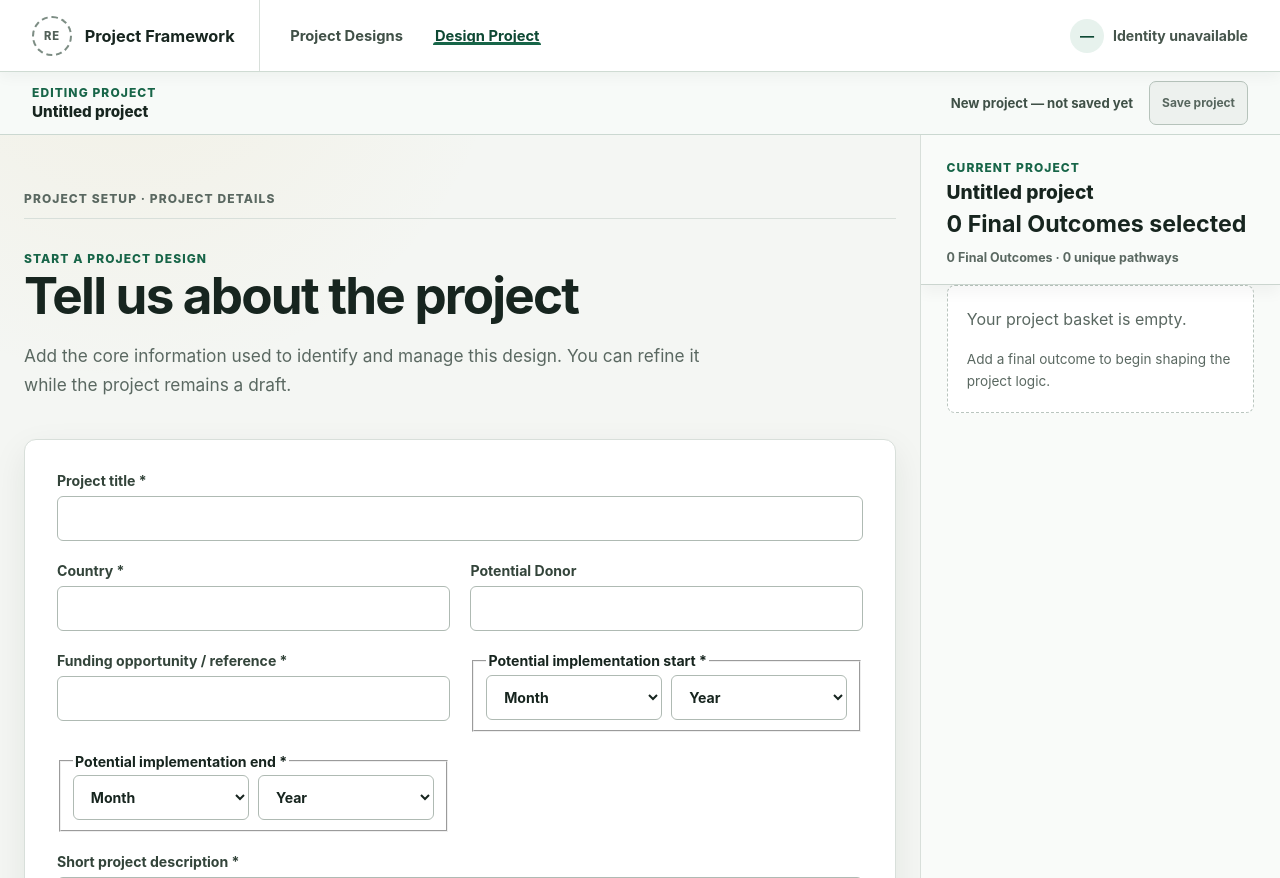
Test: project persistence workflow › marks the design saved and offers metadata-only retry after a partial save
Type "Authoritative saved project" into the field labelled "Project title *" at [460, 519], box [57,496,863,542]
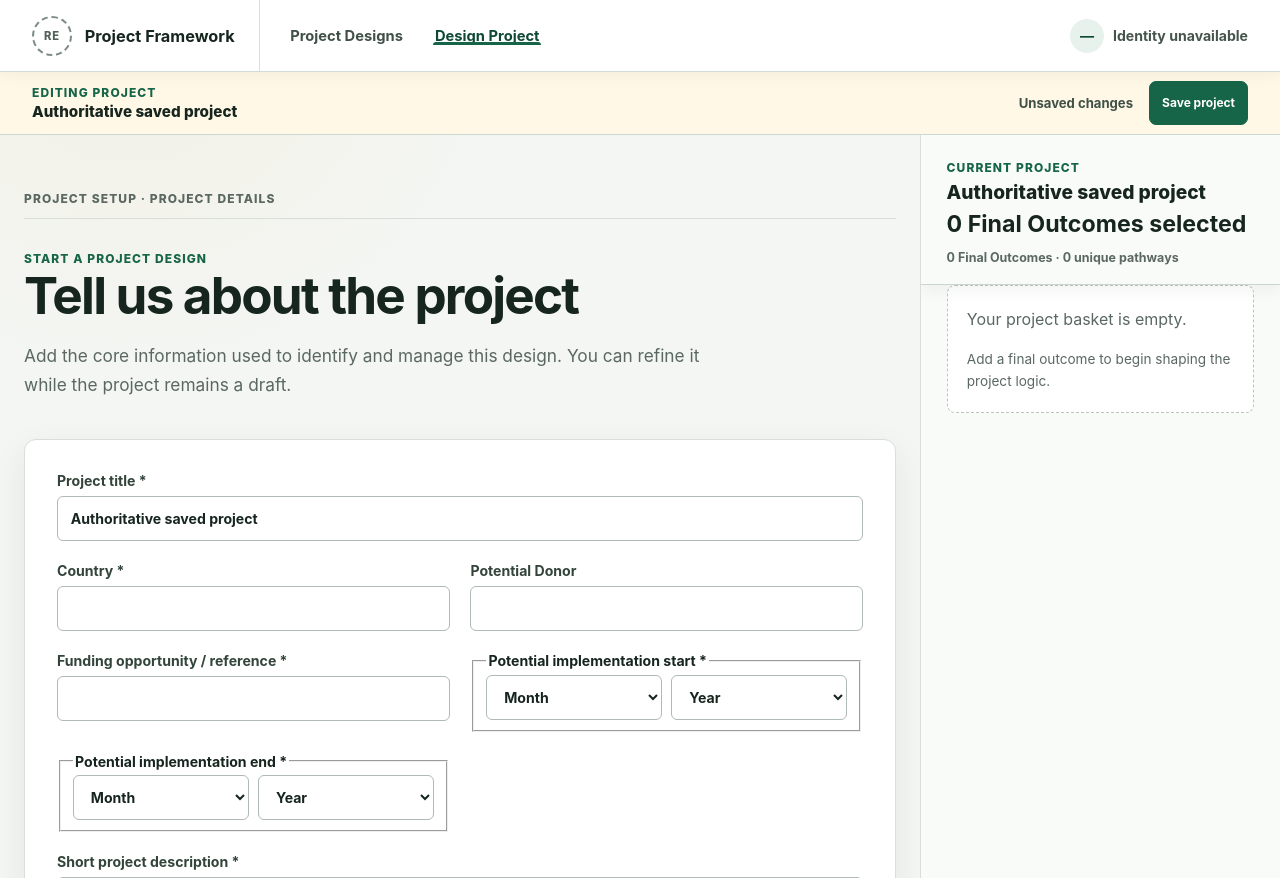
Click the button "Save project" at [1198, 103], box [1149,81,1248,125]
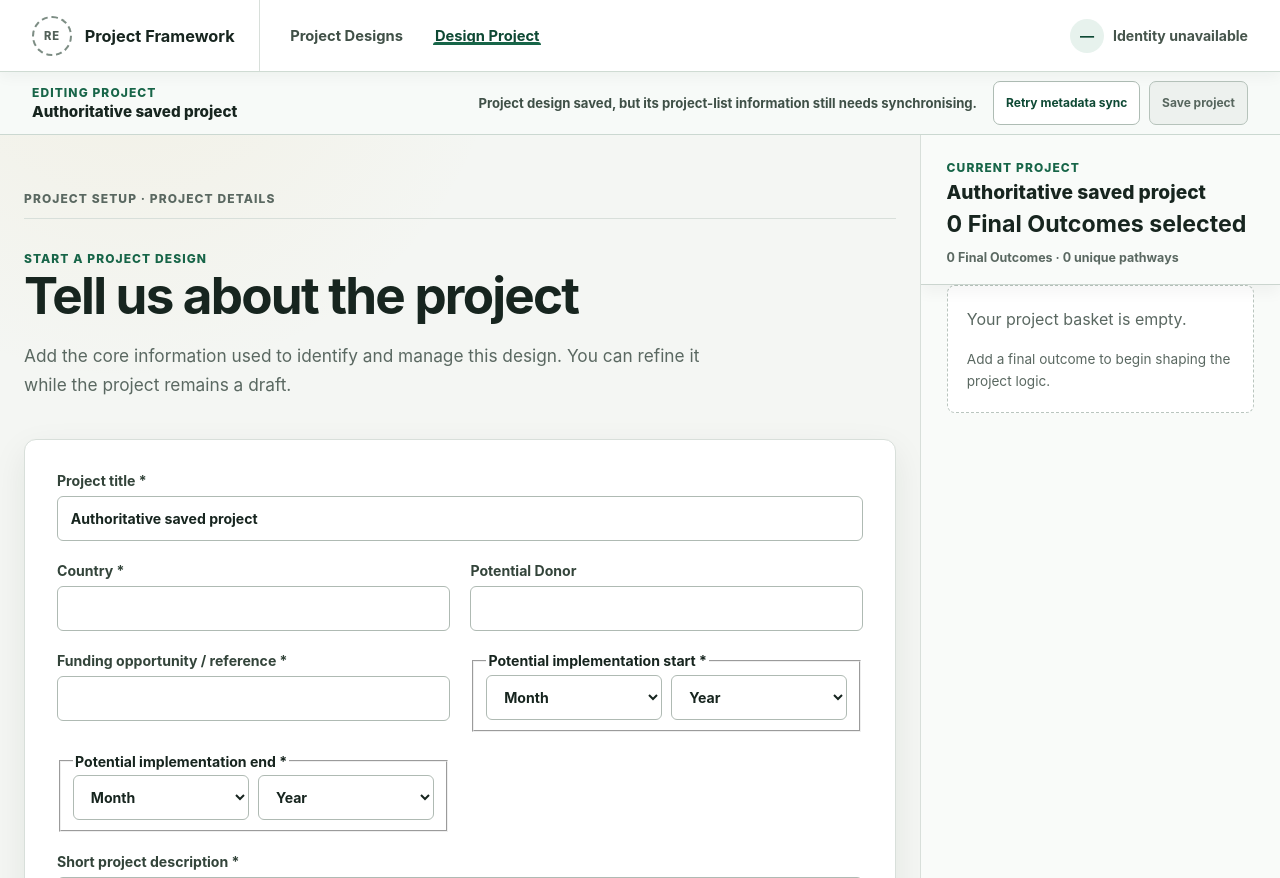
Check: the text "Project design saved, but its project-list information still needs synchronising." is shown, box [478,95,977,111]
Check: the button "Save project" is disabled, box [1149,81,1248,125]
Click the button "Retry metadata sync" at [1067, 103], box [993,81,1140,125]
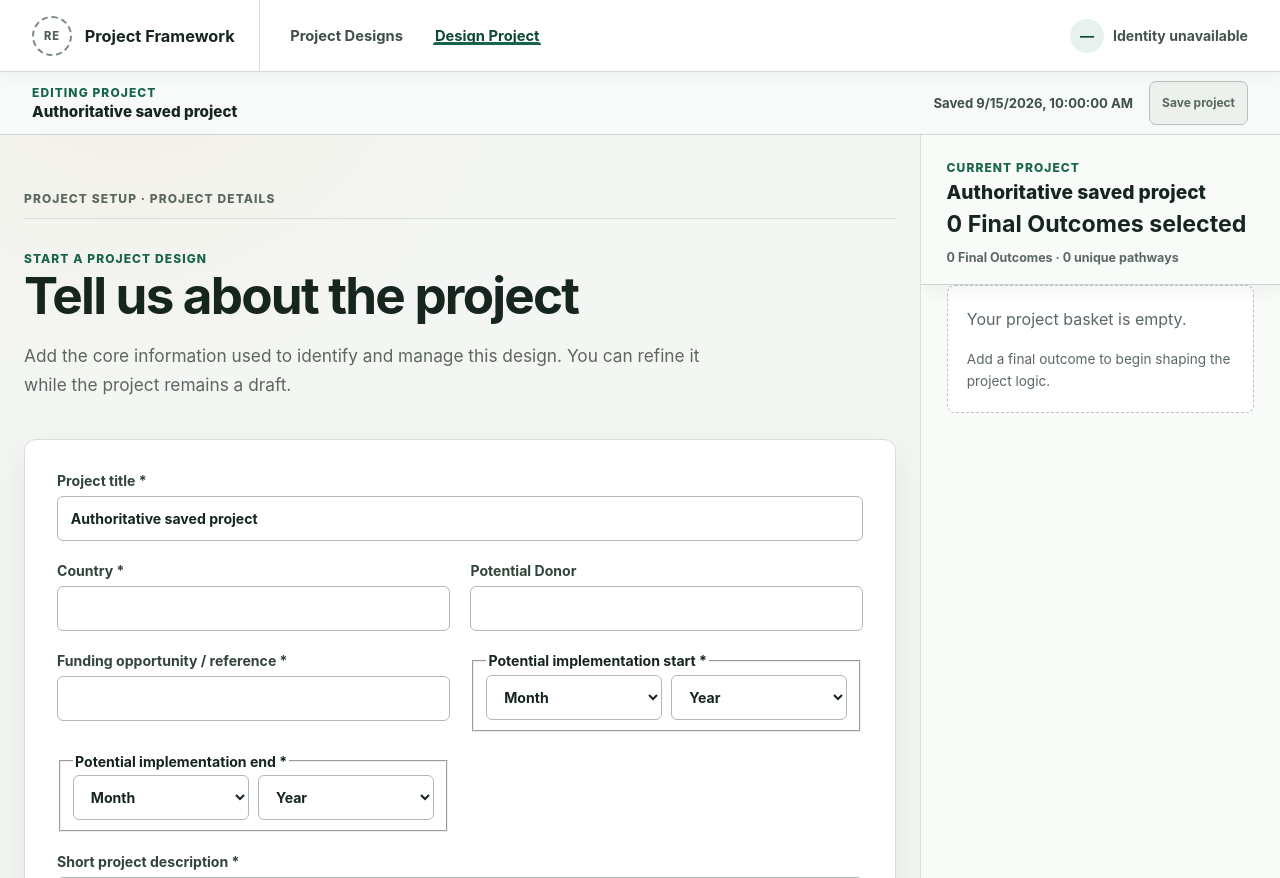
Check: the button "Retry metadata sync" is gone
